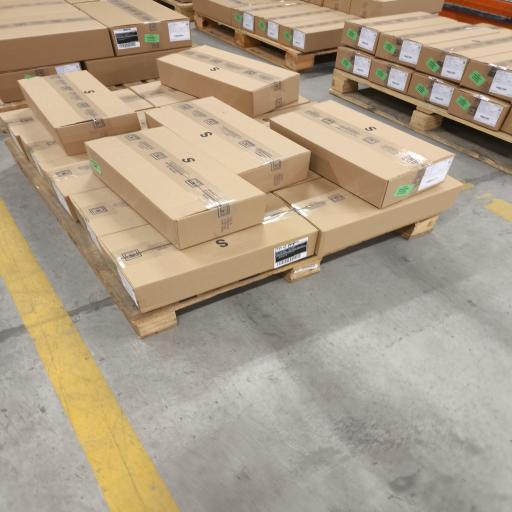pallet: (5, 138, 322, 338), (5, 138, 321, 338), (330, 69, 511, 173), (195, 13, 337, 71), (108, 78, 159, 91), (0, 100, 27, 113)
